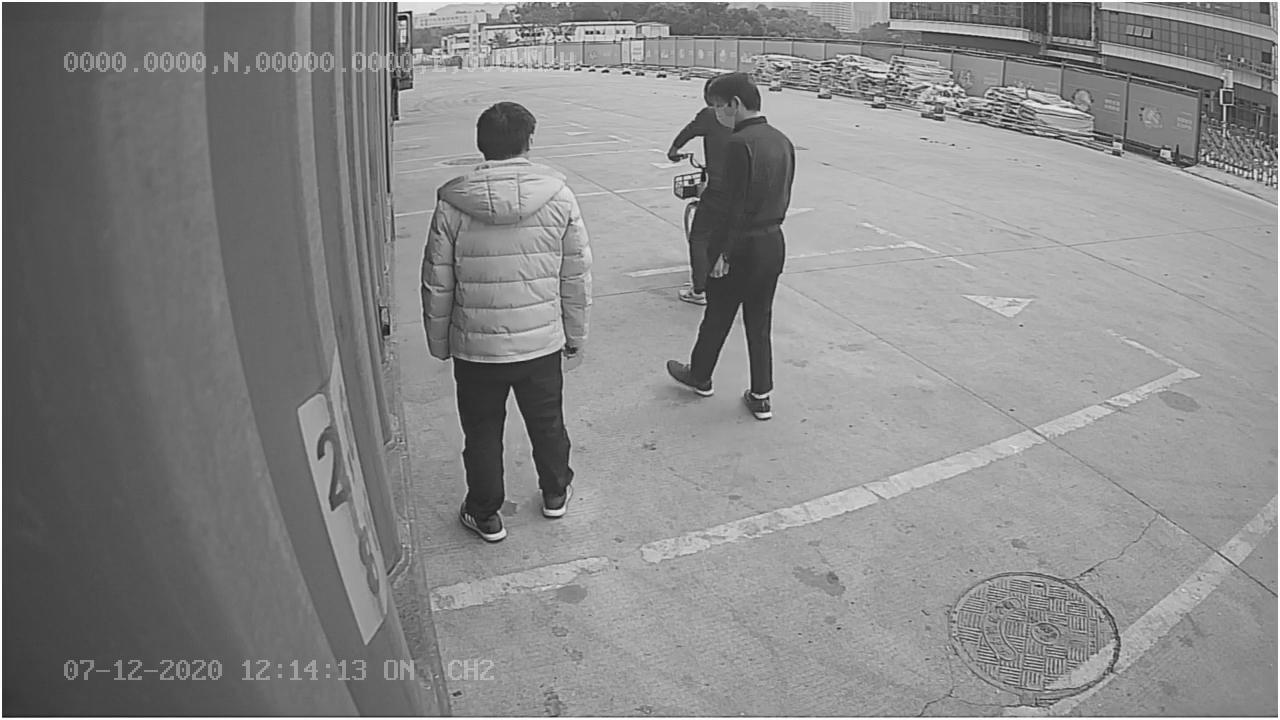person: (418, 96, 595, 534)
